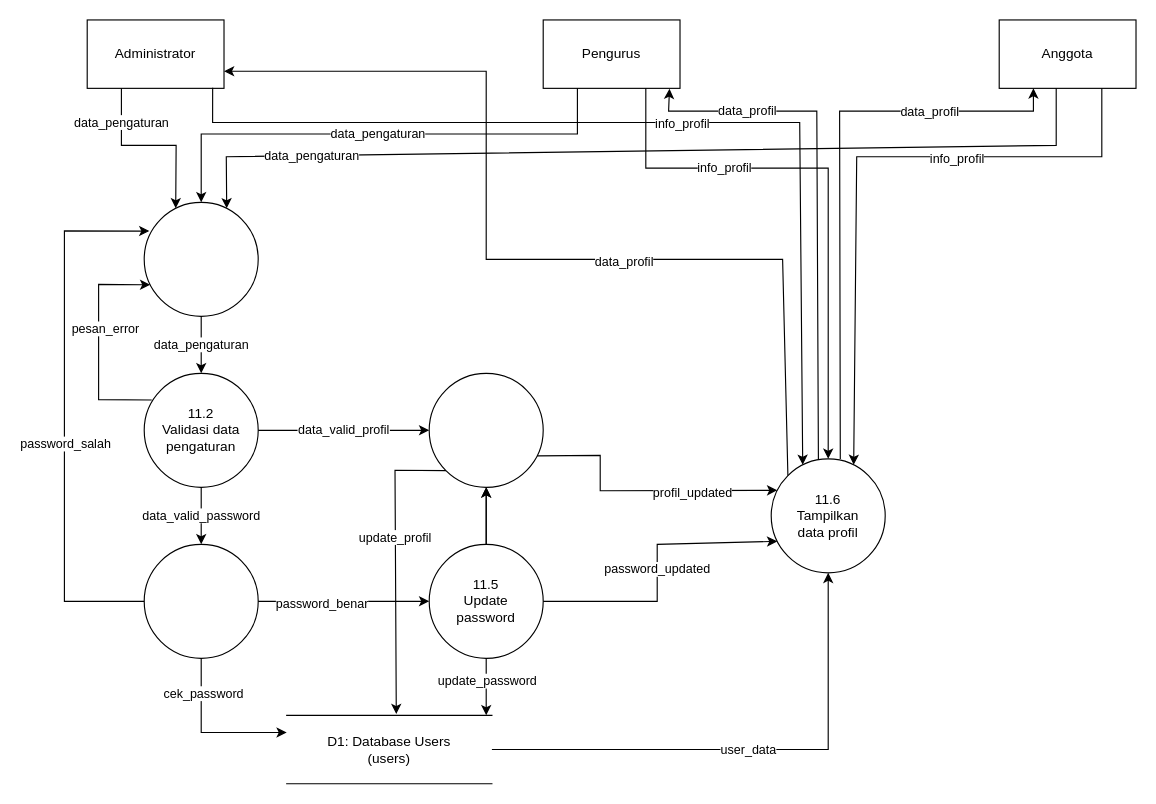
Some shapes in this 1156 by 804 pixel diagram are drawn without their labels. Each missing label, with the centre of its shape:
"11.1 Input data pengaturan" belongs at (x=200, y=258).
"11.3 Cek password lama" belongs at (x=200, y=600).
"11.4 Update profil user" belongs at (x=485, y=429).
